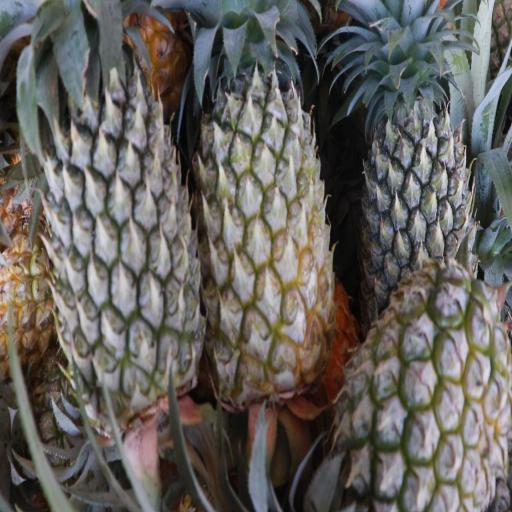------------------------------: (195, 30, 326, 398), (348, 276, 512, 510)
Pineapple - v8 v1: (0, 231, 59, 361)
